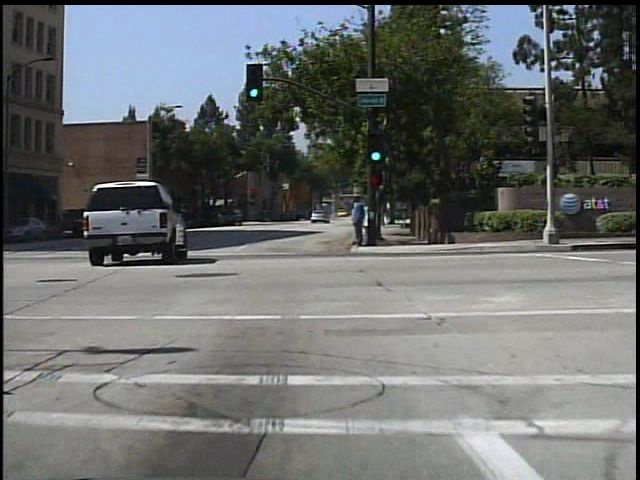person: (347, 193, 367, 249), (355, 196, 373, 247)
